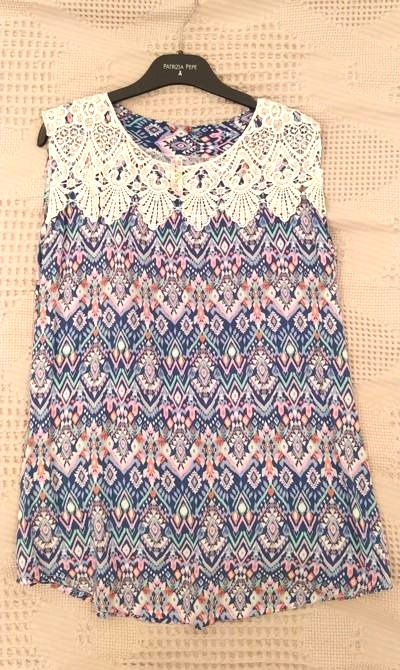Dress: (37, 88, 400, 629)
